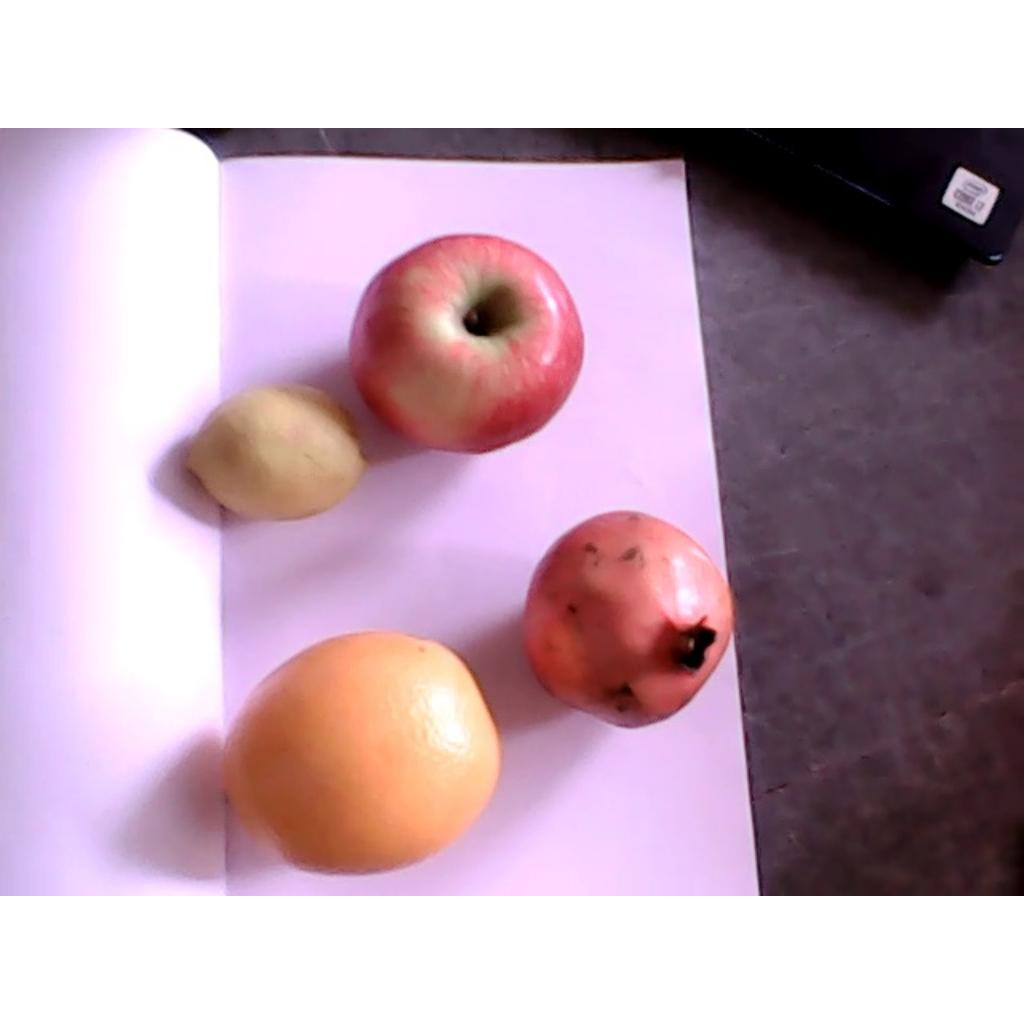apple: (349, 237, 581, 451)
lemon: (182, 383, 366, 520)
orange: (213, 629, 499, 852)
pomegranate: (520, 510, 735, 729)
